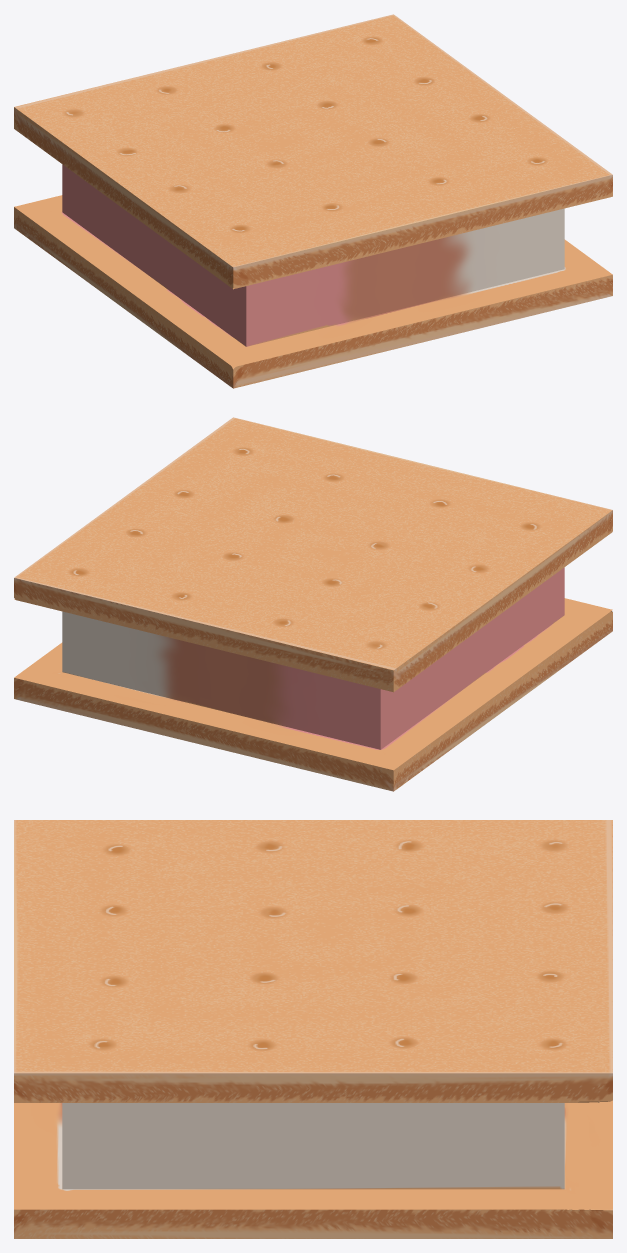
Rendered from Gallelado.fbx.
The picture shows the model from 3 angles, top to bottom: view 1: azimuth 30°, elevation 25°; view 2: azimuth 150°, elevation 25°; view 3: azimuth 270°, elevation 25°; orthographic projection. The views are drawn at different scales.
Parts seen in each view (by area): view 1: pCube1; view 2: pCube1; view 3: pCube1.
Part boxes in pixels (x1=…): pCube1: x1=14, y1=14, x2=612, y2=388; pCube1: x1=14, y1=417, x2=612, y2=791; pCube1: x1=14, y1=820, x2=612, y2=1238.
Bounding box in the file's own units: 32.74 × 9.99 × 32.74.
1 material, 1 textured.
